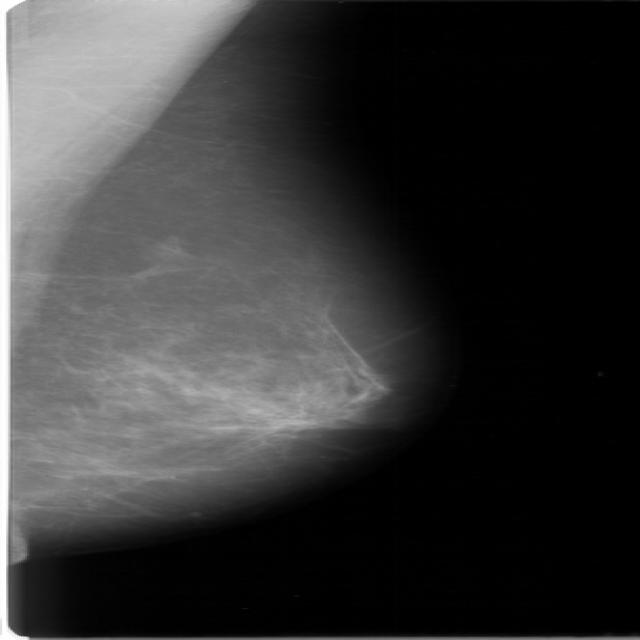tumour: (132, 239, 208, 277)
